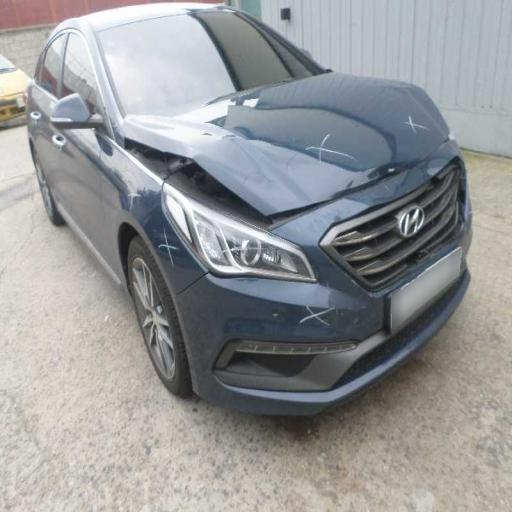broken: (132, 97, 326, 258)
scratch: (271, 284, 373, 352)
